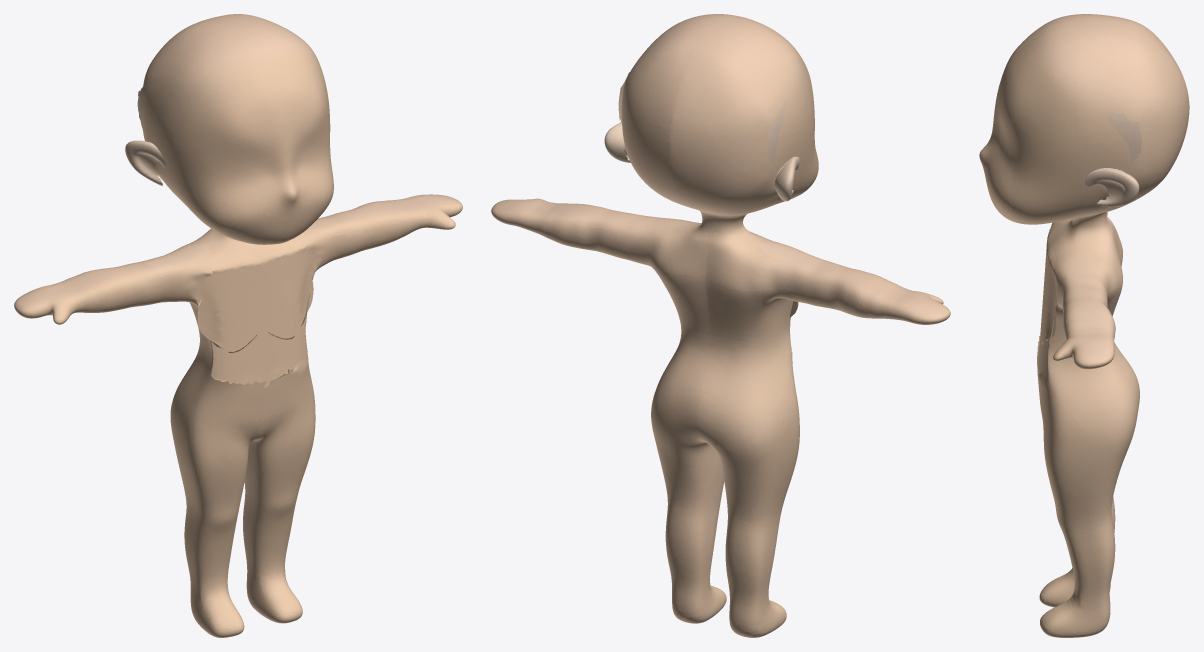
Rendered from char_namja_base_v19.glb.
3 renders of one model, left to right at view 1: azimuth 30°, elevation 25°; view 2: azimuth 150°, elevation 25°; view 3: azimuth 270°, elevation 25°, orthographic. The views are drawn at different scales.
Bounding box in the file's own units: 1.49 × 1.9 × 0.6085.
2 materials, 2 textured.
